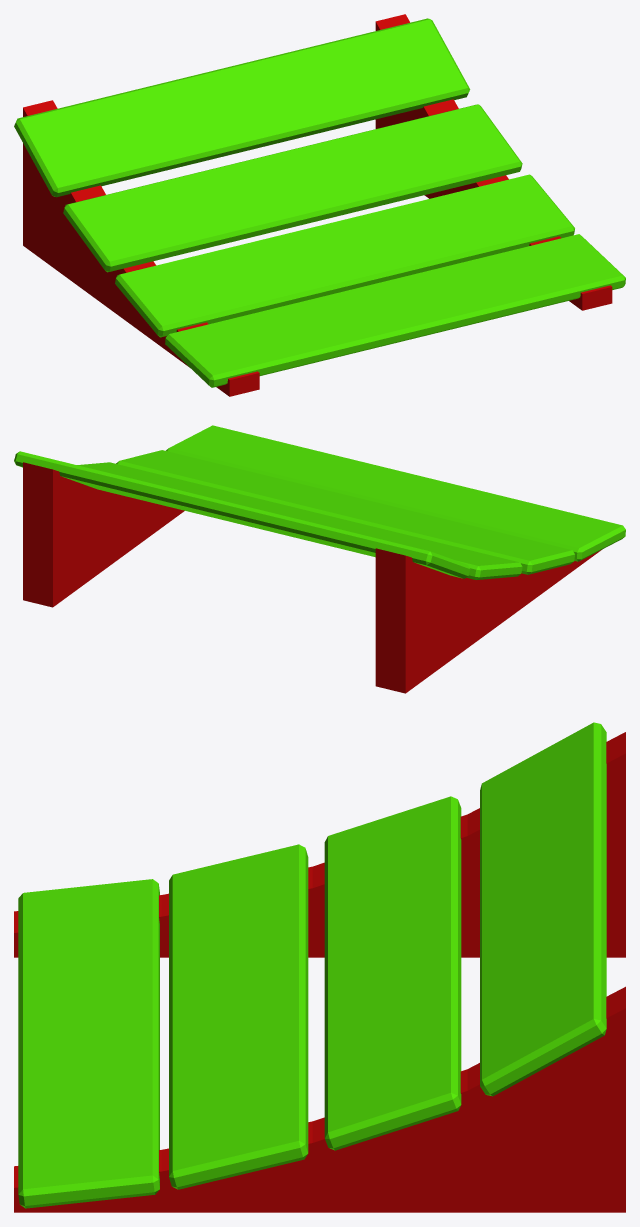
File: Ramp_V001.fbx
3 views of the same model, one above another, from view 1: azimuth 30°, elevation 25°; view 2: azimuth 150°, elevation 25°; view 3: azimuth 270°, elevation 25° (orthographic). The views are drawn at different scales.
Visible parts, largest first — view 1: Plank4, Plank3, Plank2, Plank1, Strut1, Strut2; view 2: Plank1, Strut1, Strut2, Plank2, Plank4, Plank3; view 3: Strut2, Plank1, Plank2, Plank3, Plank4, Strut1.
Part boxes in pixels (x1,y1,x2,y2): Plank4: (14, 18, 470, 197); Plank3: (63, 104, 522, 272); Plank2: (115, 174, 574, 337); Plank1: (165, 234, 625, 387); Strut1: (23, 100, 259, 396); Strut2: (375, 14, 612, 310); Plank1: (166, 425, 625, 561); Strut1: (375, 548, 601, 693); Strut2: (23, 462, 184, 607); Plank2: (116, 450, 574, 574); Plank4: (14, 451, 470, 578); Plank3: (77, 462, 522, 579); Strut2: (14, 986, 625, 1212); Plank1: (18, 879, 159, 1208); Plank2: (169, 844, 308, 1189); Plank3: (324, 796, 461, 1150); Plank4: (480, 722, 606, 1096); Strut1: (14, 732, 625, 957).
Size of the model in its own units: 4.72 by 1.5 by 4.06.
